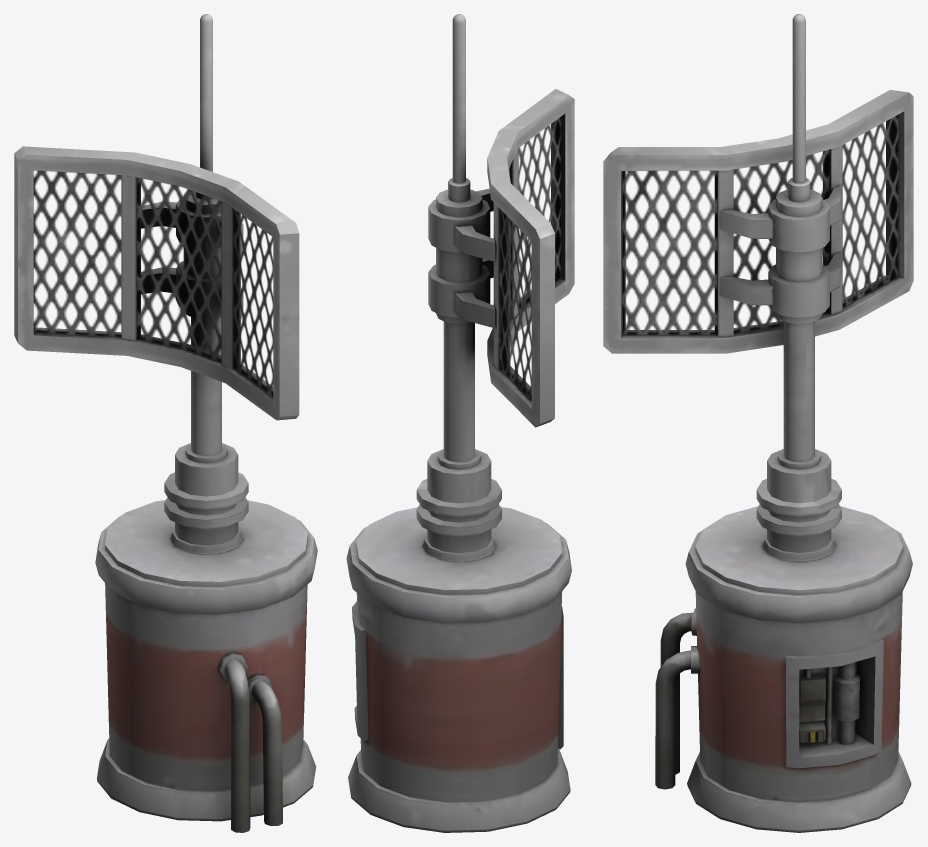
The picture shows the model from 3 angles, left to right: view 1: azimuth 30°, elevation 25°; view 2: azimuth 150°, elevation 25°; view 3: azimuth 270°, elevation 25°; orthographic projection.
Parts seen in each view (by area): view 1: body0_model0_lod0_mesh0; view 2: body0_model0_lod0_mesh0; view 3: body0_model0_lod0_mesh0.
Part boxes in pixels (x1,y1,x2,y2): body0_model0_lod0_mesh0: [14, 14, 317, 832]; body0_model0_lod0_mesh0: [346, 14, 574, 832]; body0_model0_lod0_mesh0: [603, 14, 913, 832].
Bounding box in the file's own units: 89.63 × 273 × 99.6.
1 material, 1 textured.
